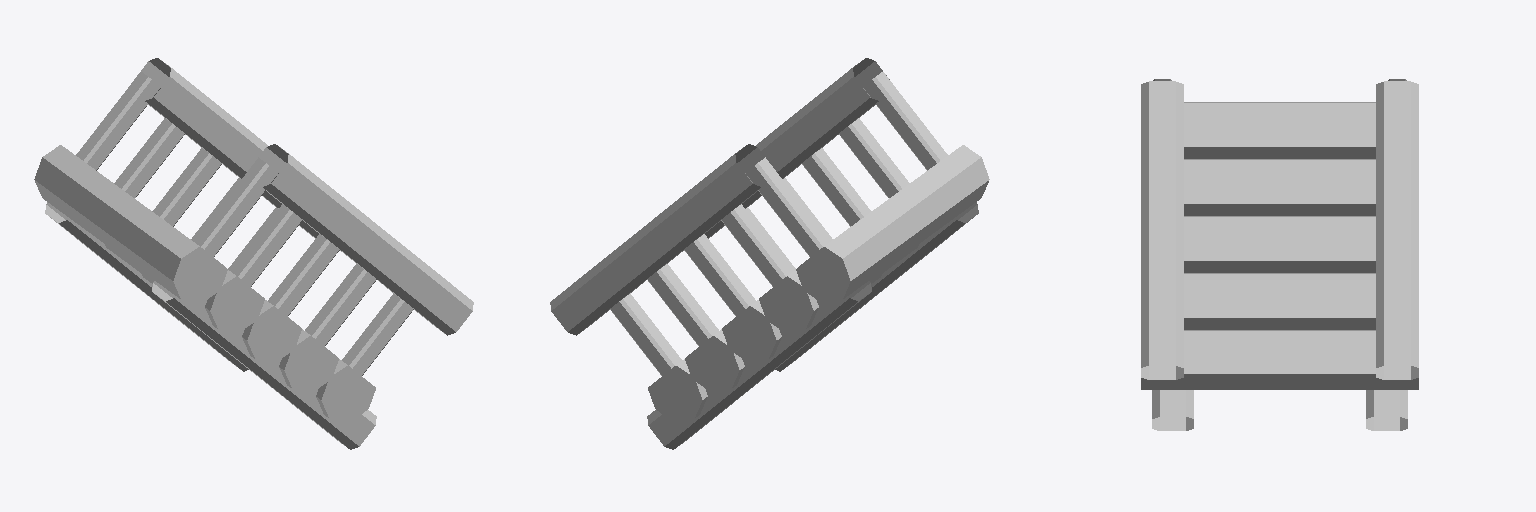
Rendered from Track_Bridge_Incline_Sharp_Floating.obj.
3 renders of one model, left to right at view 1: azimuth 30°, elevation 25°; view 2: azimuth 150°, elevation 25°; view 3: azimuth 270°, elevation 25°, orthographic.
Visible parts, largest first — view 1: Bridge_Rail_Support, Bridge_Rail, Log_Plank_Bark, Log_Plank_End, Bridge_Support_Beam; view 2: Bridge_Rail_Support, Bridge_Rail, Log_Plank_Bark, Log_Plank_End, Bridge_Support_Beam; view 3: Log_Plank_Top, Bridge_Rail, Log_Plank_Bark, Bridge_Support_Beam.
Part boxes in pixels (x1,y1,x2,y2): Bridge_Rail_Support: (76,72,413,375); Bridge_Rail: (134,58,473,335); Log_Plank_Bark: (34,145,347,417); Log_Plank_End: (173,247,375,421); Bridge_Support_Beam: (45,202,376,449); Bridge_Rail_Support: (610,72,947,375); Bridge_Rail: (550,58,889,335); Log_Plank_Bark: (676,145,989,417); Log_Plank_End: (648,247,850,421); Bridge_Support_Beam: (647,202,978,449); Log_Plank_Top: (1184,103,1375,373); Bridge_Rail: (1141,81,1418,379); Log_Plank_Bark: (1141,102,1418,389); Bridge_Support_Beam: (1152,390,1407,430).
Bounding box in the file's own units: 1.65 × 1.64 × 1.3.